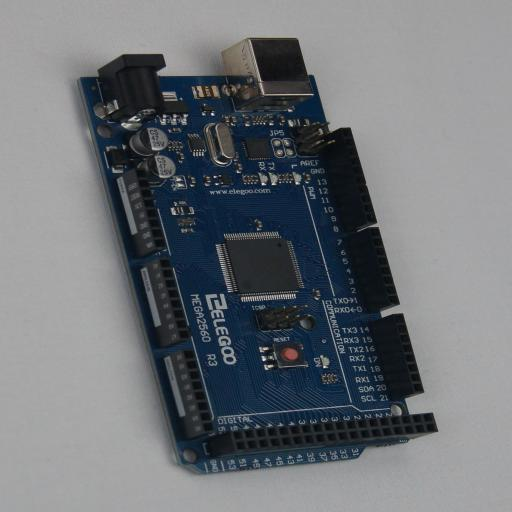ESP32_DEVKIT: (77, 38, 438, 474)
